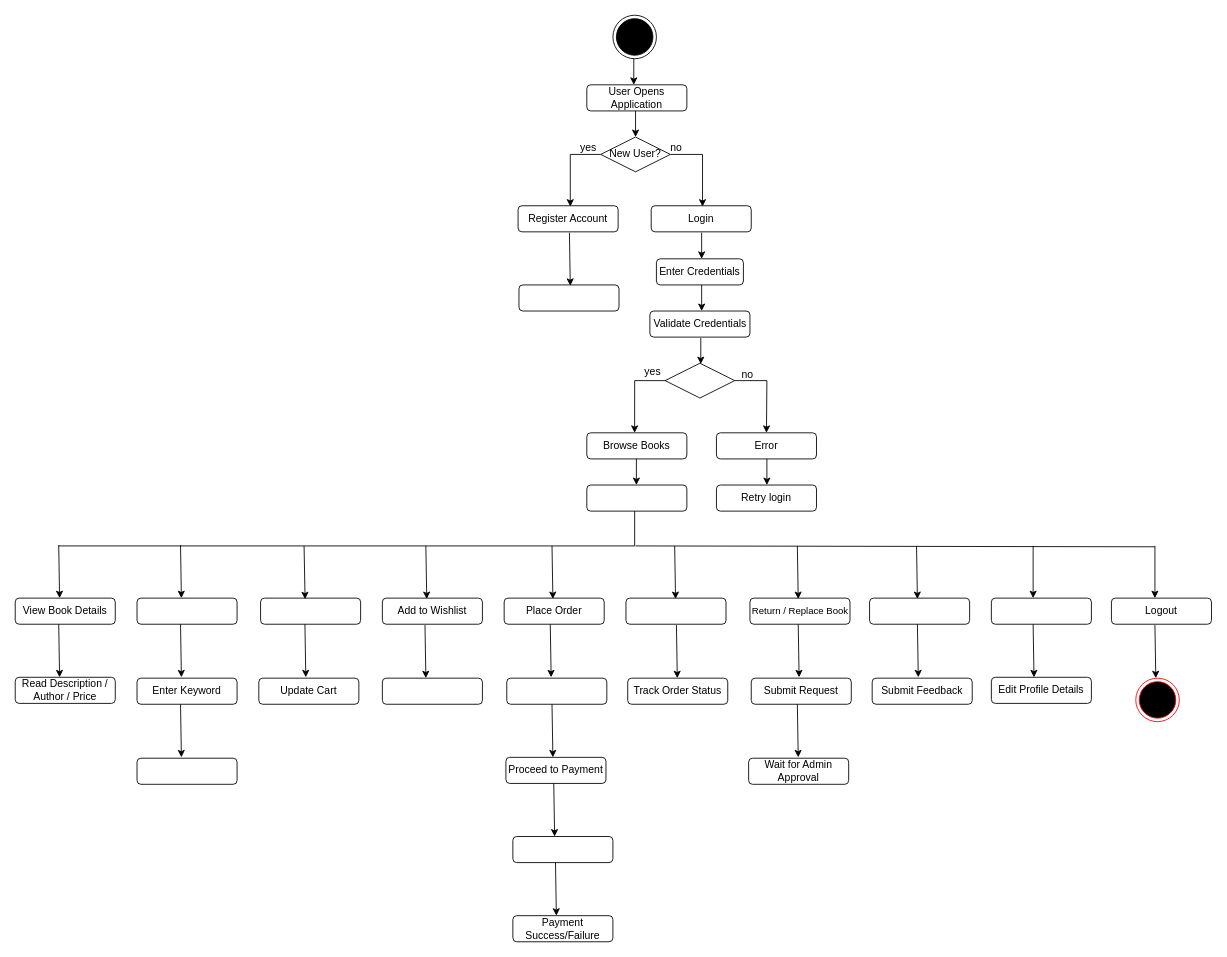
This 1227x957 diagram has some shape labels left out. Here are the shapes that lost their labels. From the top down, the centre of each, then its label:
At point 568,297: "Save User Data".
At point 699,380: "Credentials".
At point 636,497: "Select Action".
At point 186,610: "Search Book".
At point 310,610: "Add to Cart".
At point 675,610: "View Orders".
At point 919,610: "Add Review & Rating".
At point 1040,610: "Manage Profile".
At point 431,690: "Save Wishlist Item".
At point 556,690: "Enter Address & Details".
At point 186,770: "Display Results".
At point 562,849: "Razorpay(if UPI)".
